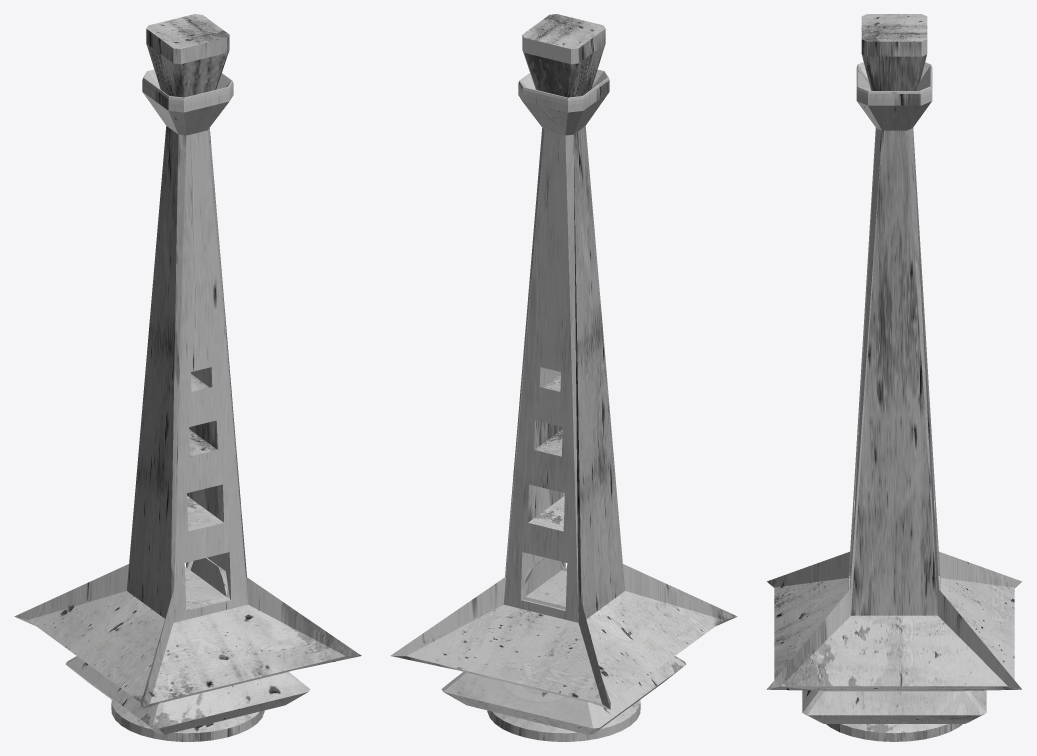
The model's file is Mesela_1.fbx.
3 views of the same model, side by side, from view 1: azimuth 30°, elevation 25°; view 2: azimuth 150°, elevation 25°; view 3: azimuth 270°, elevation 25° (orthographic).
Visible parts, largest first — view 1: Cube.004; view 2: Cube.004; view 3: Cube.004.
Boxes of the visible parts, bbox=[...] form: Cube.004: bbox=[14, 14, 361, 741]; Cube.004: bbox=[390, 14, 737, 741]; Cube.004: bbox=[766, 14, 1022, 741].
Size of the model in its own units: 690 by 2026 by 690.
1 material, 1 textured.
